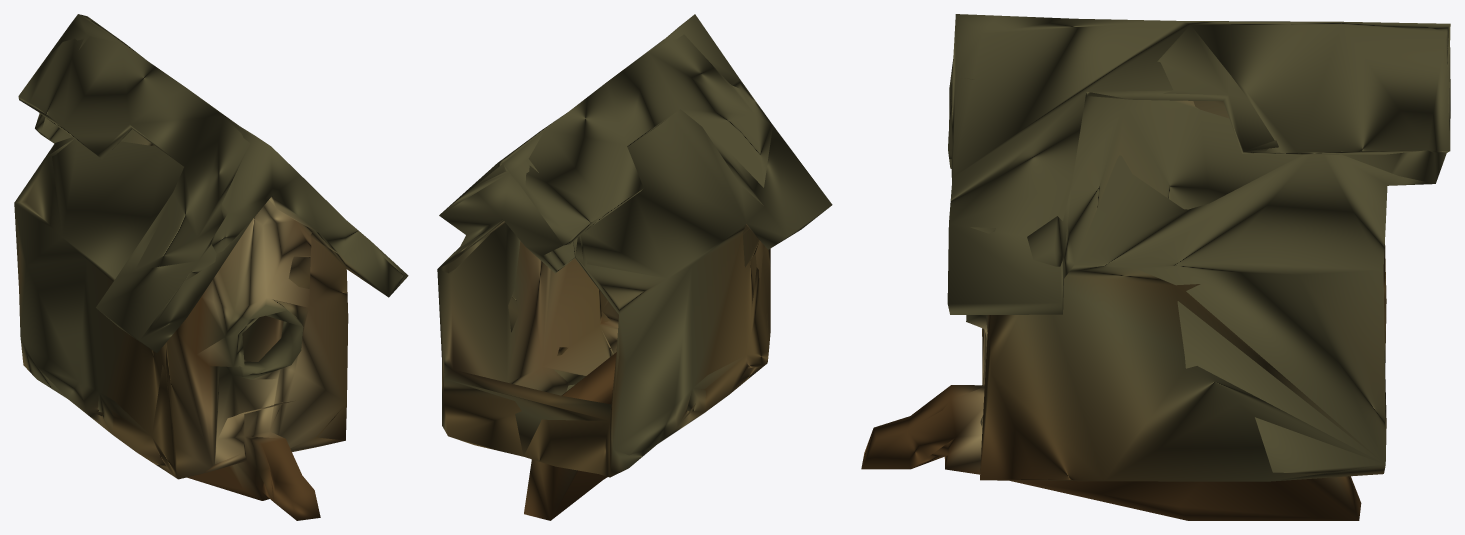
File: gen3d-birdhouse-lod1.glb
3 renders of one model, left to right at view 1: azimuth 30°, elevation 25°; view 2: azimuth 150°, elevation 25°; view 3: azimuth 270°, elevation 25°, orthographic. The views are drawn at different scales.
Visible parts, largest first — view 1: part_0; view 2: part_0; view 3: part_0.
Boxes of the visible parts, <box> form: part_0: <box>14,14,408,520</box>; part_0: <box>437,14,832,520</box>; part_0: <box>861,14,1450,520</box>.
Size of the model in its own units: 0.7222 by 0.9939 by 1.07.
